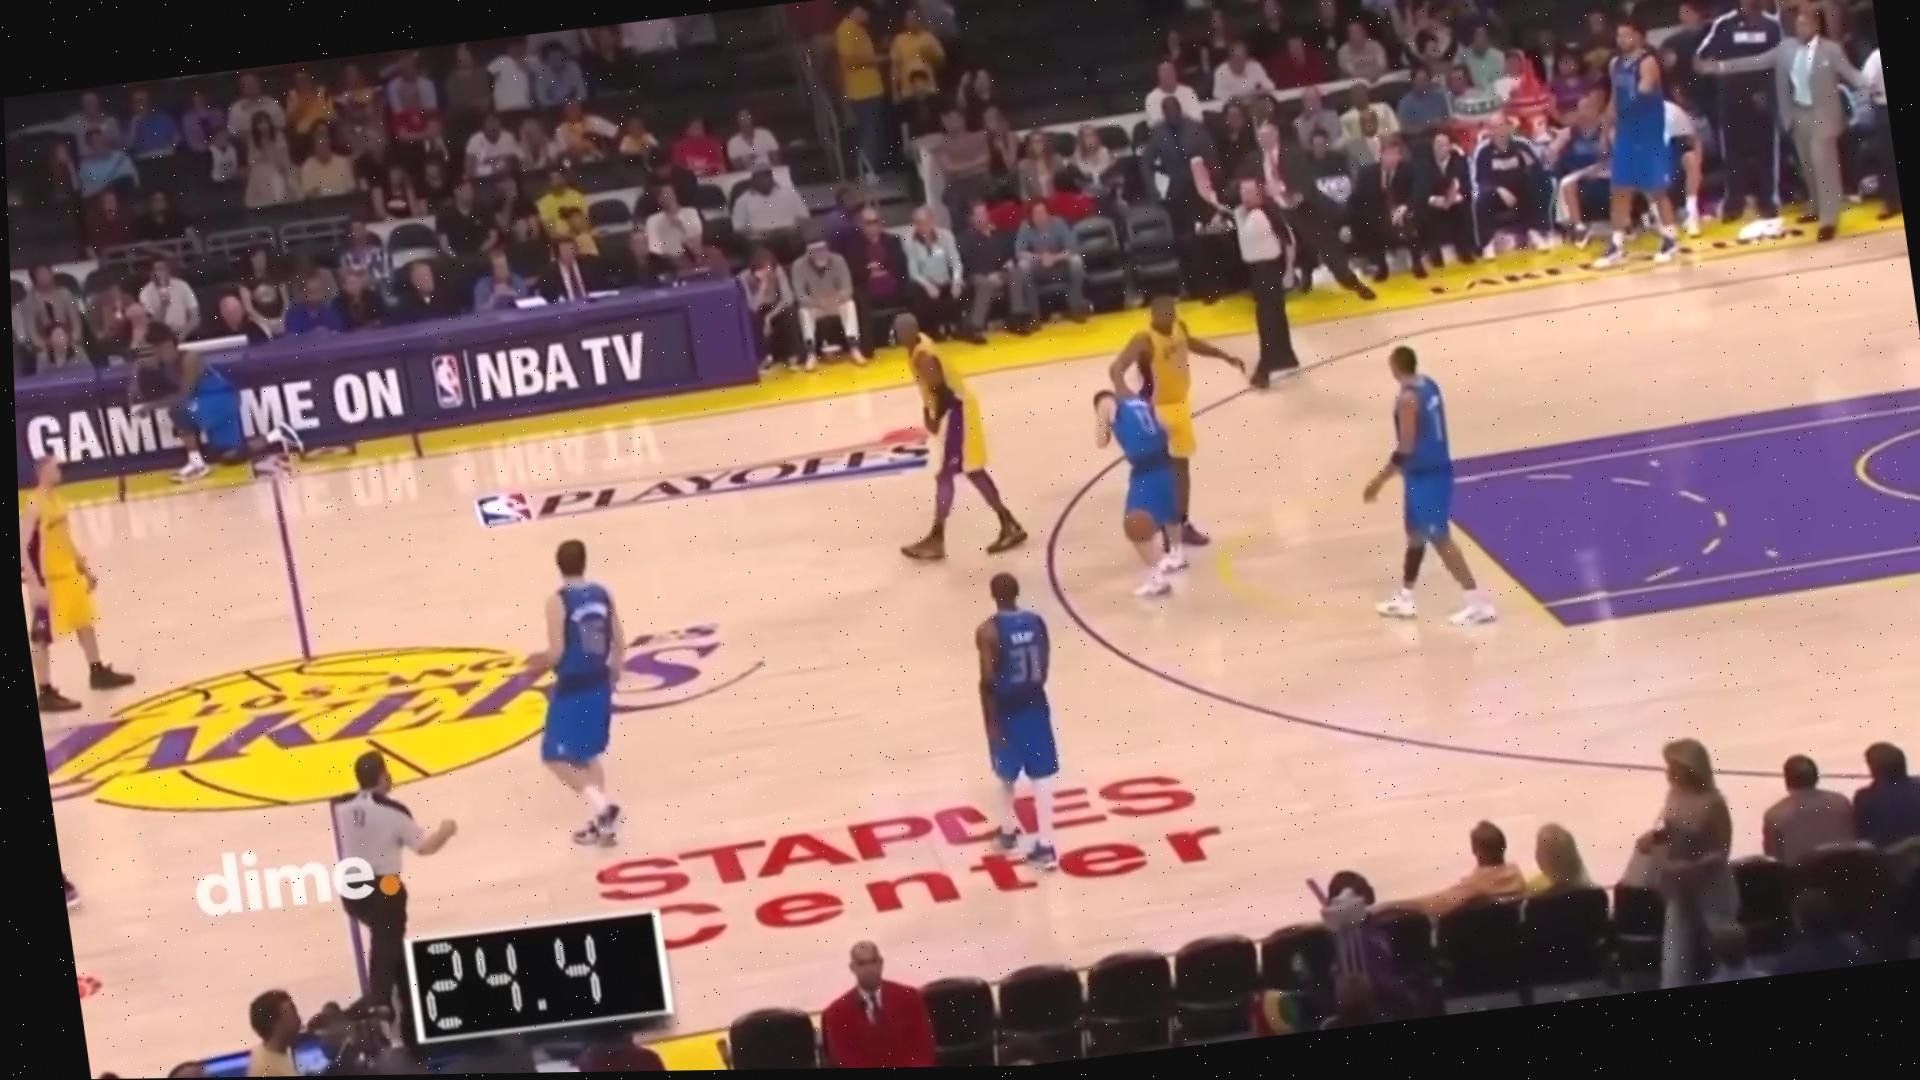foul: (1044, 282, 1245, 588)
